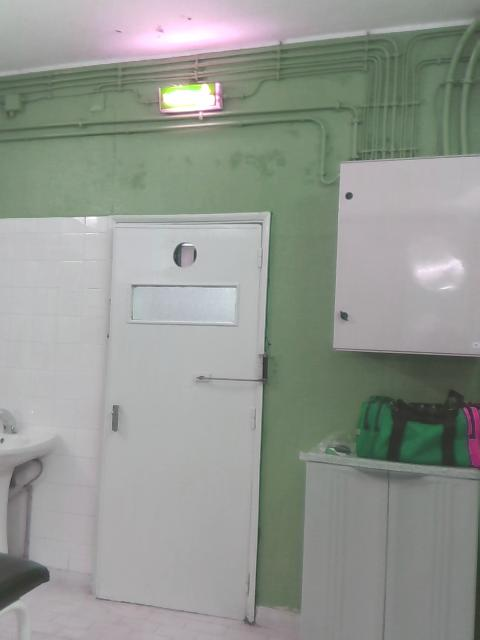closed_door: (85, 206, 272, 627)
